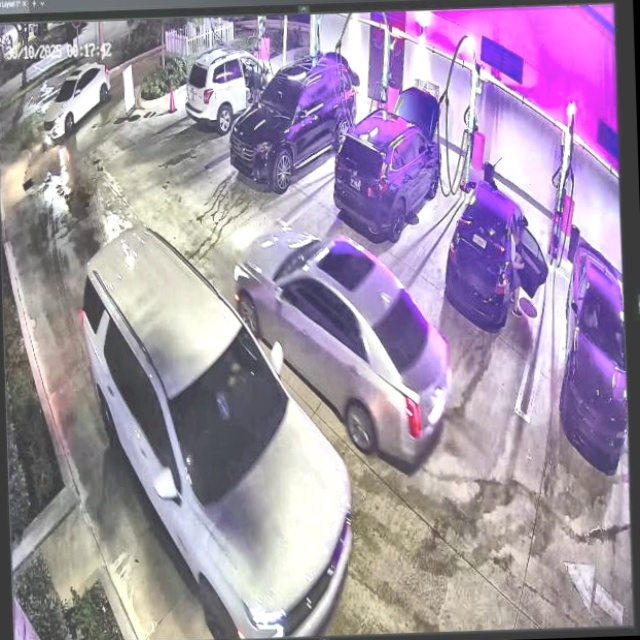Car: (78, 220, 354, 640), (244, 216, 453, 466), (237, 56, 361, 189), (338, 81, 442, 238), (452, 174, 547, 325)
